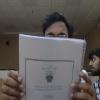notebook: (17, 33, 87, 99)
